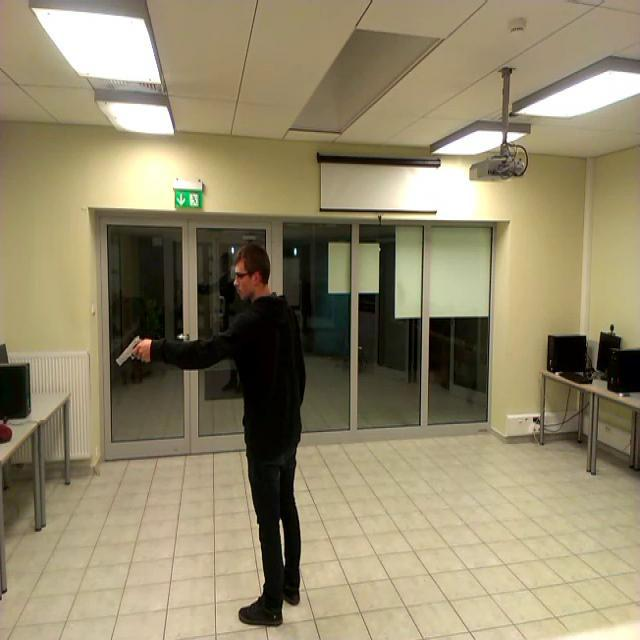Gun: (116, 334, 146, 366)
